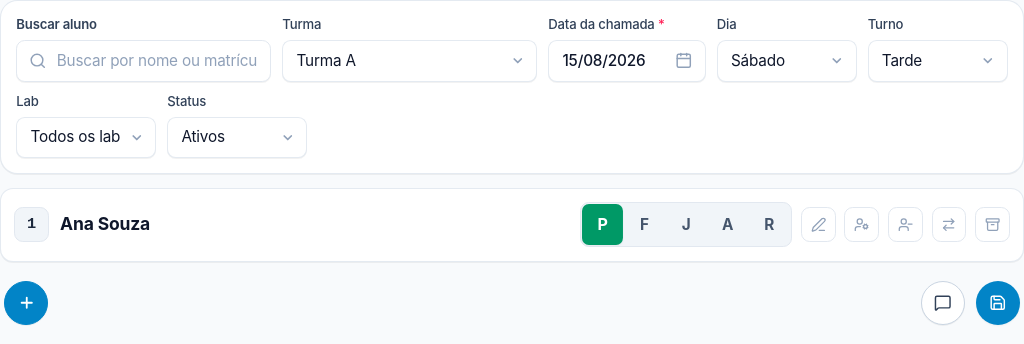
Test: AttendancePage › renders class options without course name, search on the left, and icon-only pill actions with feedback
Expected: the text "Ana Souza" is shown, x1=60 y1=211 x2=150 y2=238
Type "001" into the field named "Buscar aluno na chamada" at (144, 61), box x1=16 y1=40 x2=271 y2=82
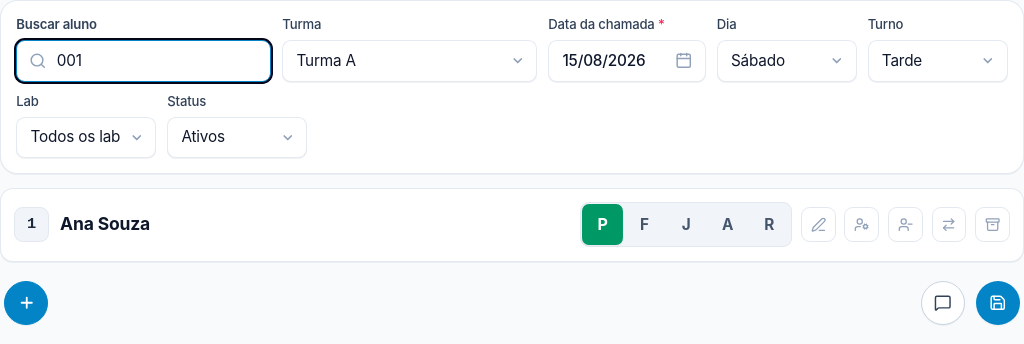
Expected: the text "Ana Souza" is shown, x1=60 y1=211 x2=150 y2=238
Clear the field named "Buscar aluno na chamada" at (144, 61), box x1=16 y1=40 x2=271 y2=82
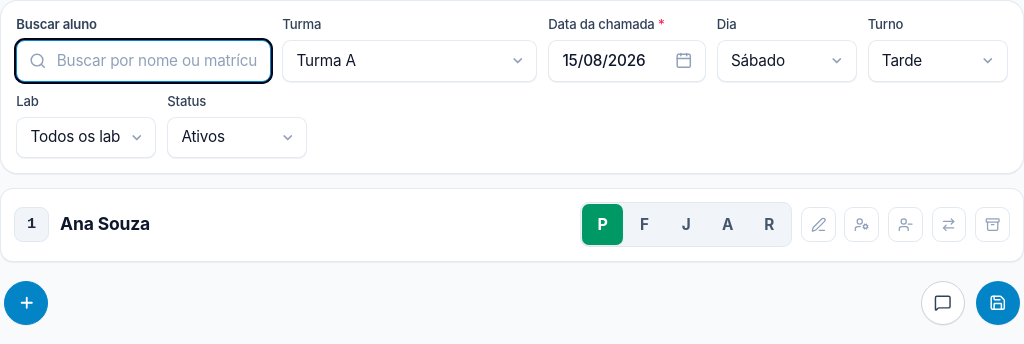
Expected: the button named "Incluir aluno na turma" is shown, x1=4 y1=281 x2=48 y2=325
Expected: the button named "Salvar chamada" is shown, x1=976 y1=281 x2=1020 y2=325
Click notes button to open floating popover above button
Click the button named "Observação da turma" at (943, 303), box x1=921 y1=281 x2=965 y2=325
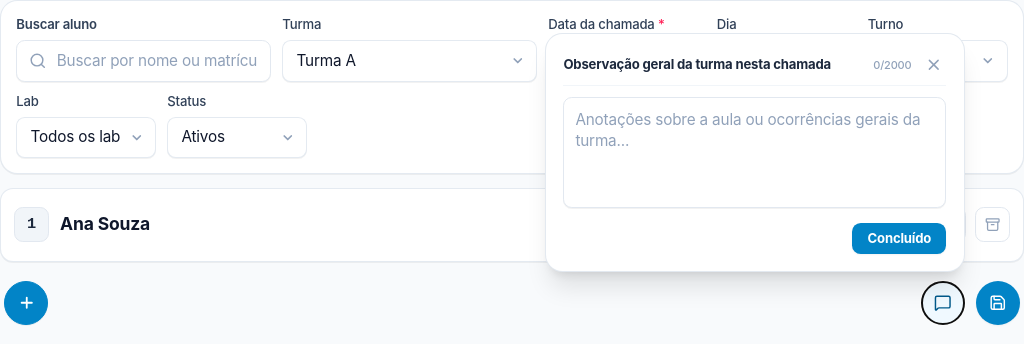
Now the text box labelled "Observação geral da turma nesta chamada" is shown
Type "Aula prática no lab" into the text box labelled "Observação geral da turma nesta chamada" at (755, 152), box x1=563 y1=97 x2=946 y2=208
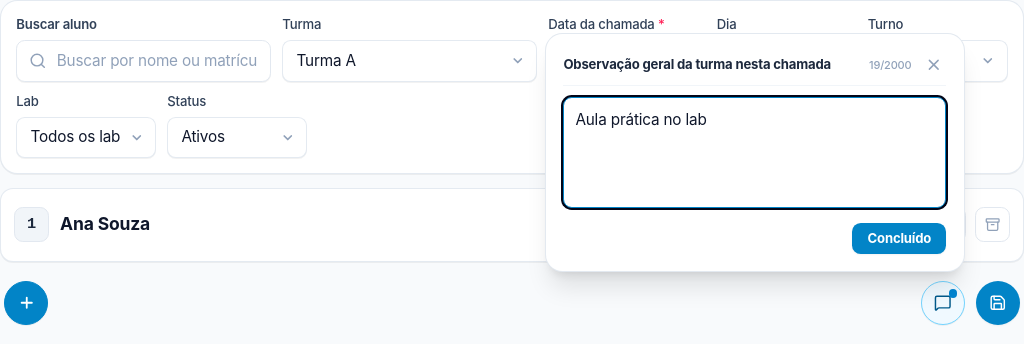
Click the button "Concluído" at (899, 239), box x1=852 y1=223 x2=946 y2=254
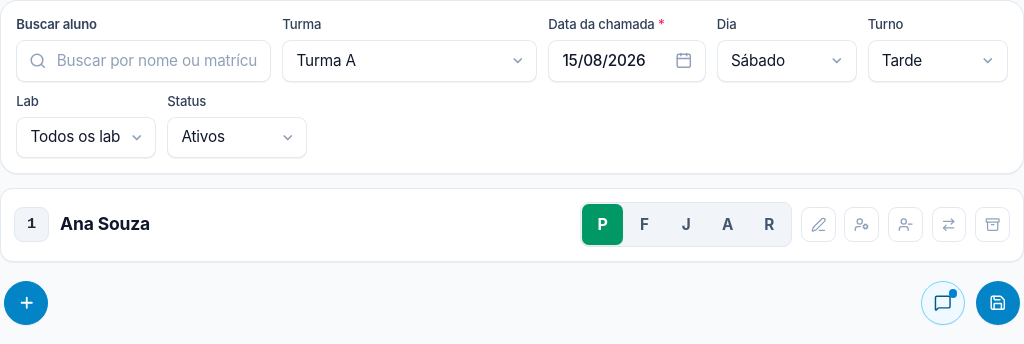
Save attendance: check top toast appears
Click the button named "Salvar chamada" at (998, 303), box x1=976 y1=281 x2=1020 y2=325
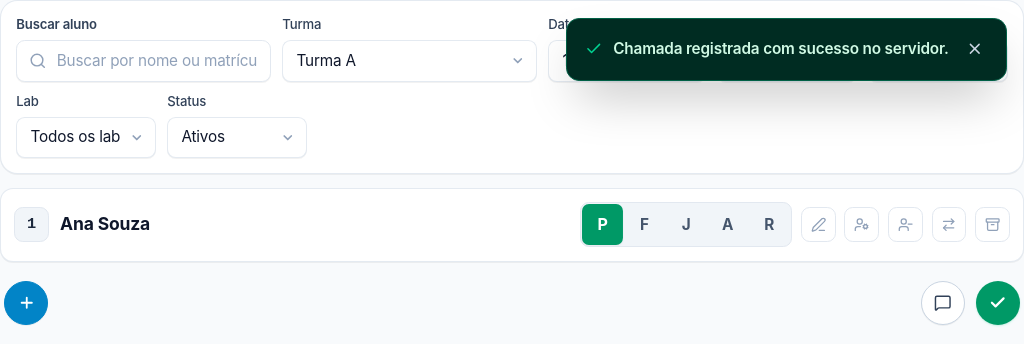
Now the text "Chamada registrada com sucesso no servidor." is shown, box x1=613 y1=38 x2=949 y2=60
